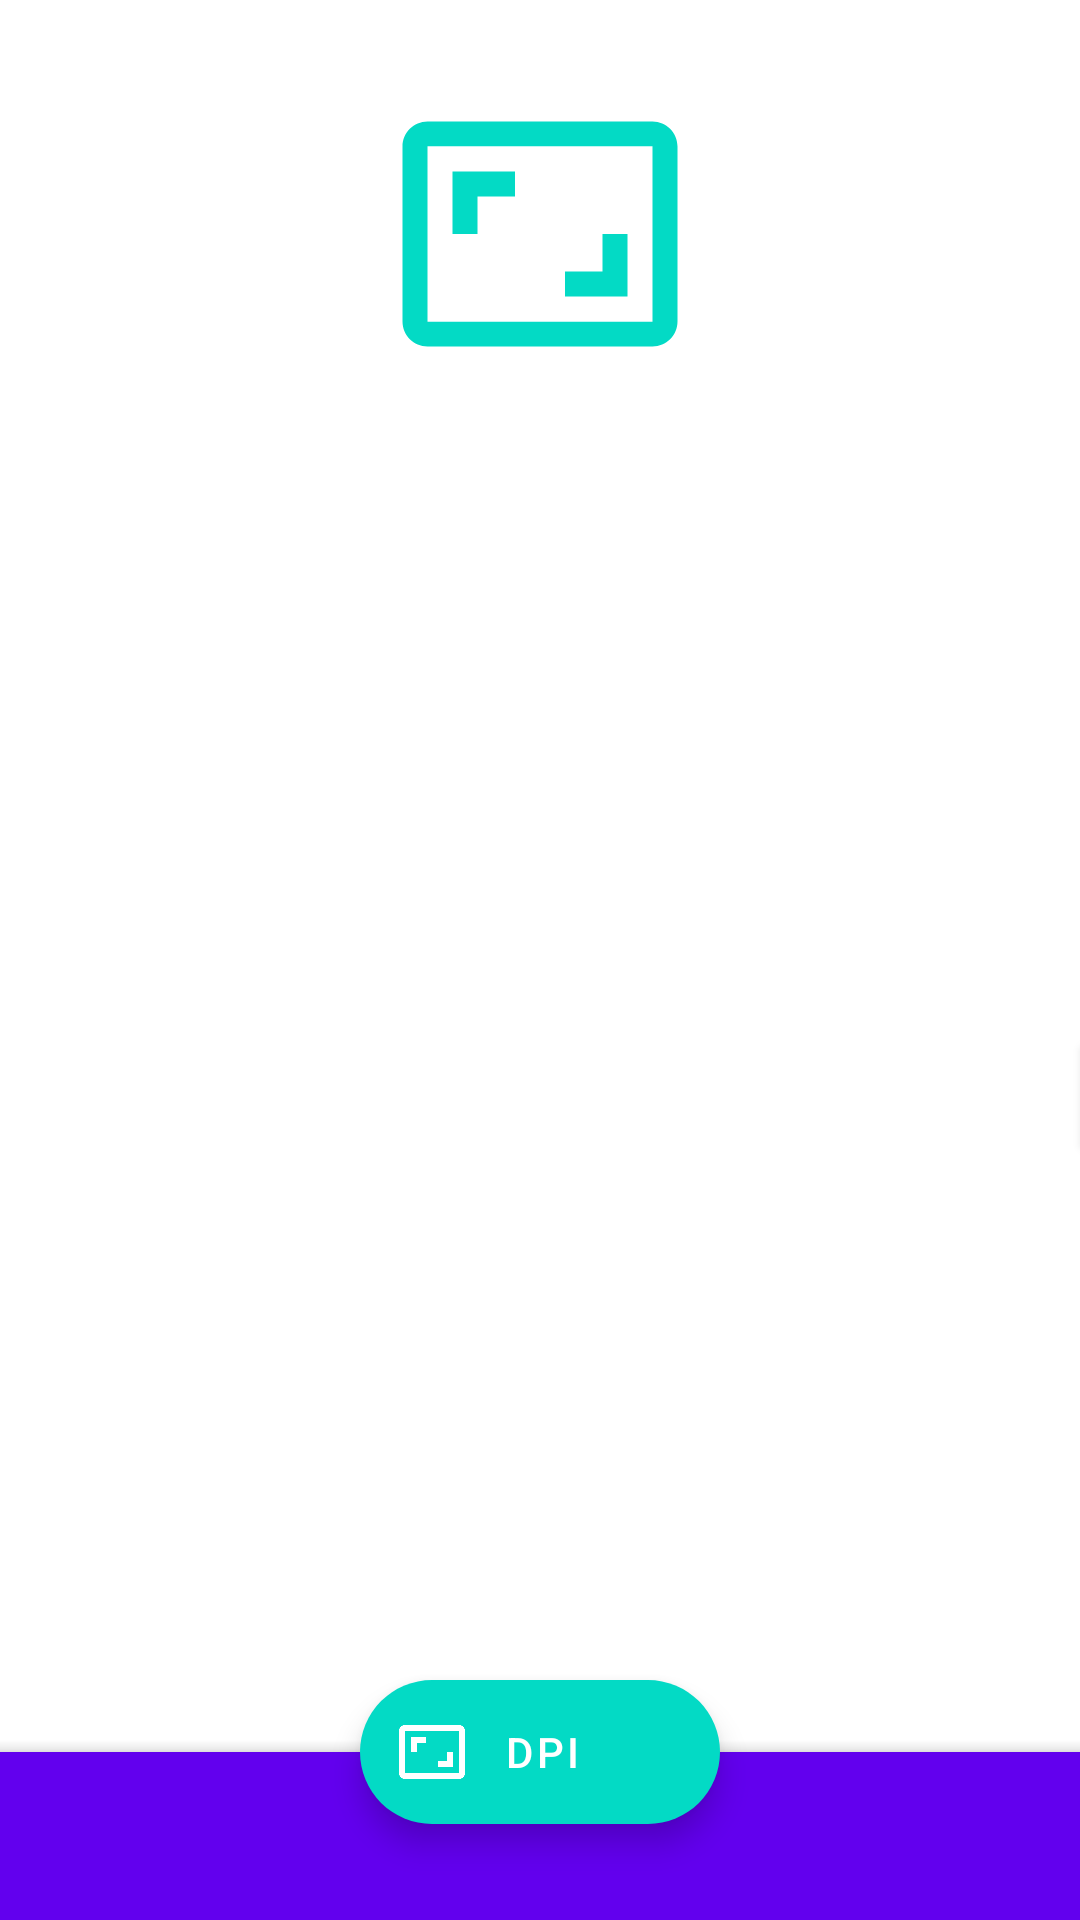

Where to tap for icons on this 1080px x 1920px app screen, as [x,y]:
aspect ratio themed: [540,234]
